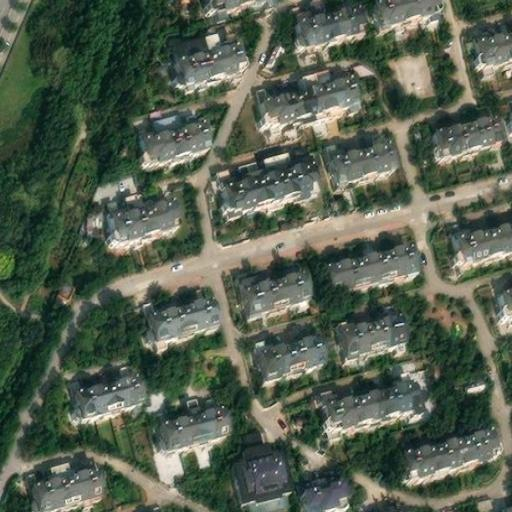building: (326, 371, 426, 423), (402, 419, 501, 469), (326, 233, 423, 284), (224, 153, 317, 203), (263, 68, 359, 116), (234, 426, 291, 497), (238, 255, 316, 304), (109, 190, 187, 234), (149, 289, 222, 332), (339, 304, 408, 349), (31, 459, 103, 502), (159, 397, 231, 439), (256, 327, 324, 371), (435, 108, 507, 148), (145, 115, 215, 155), (78, 367, 144, 409), (299, 0, 368, 37), (337, 132, 397, 174), (181, 37, 244, 77), (455, 212, 512, 256), (301, 474, 353, 511), (477, 23, 512, 60), (379, 0, 442, 17), (369, 502, 410, 512), (267, 146, 291, 163), (502, 280, 512, 310), (497, 500, 512, 512)
